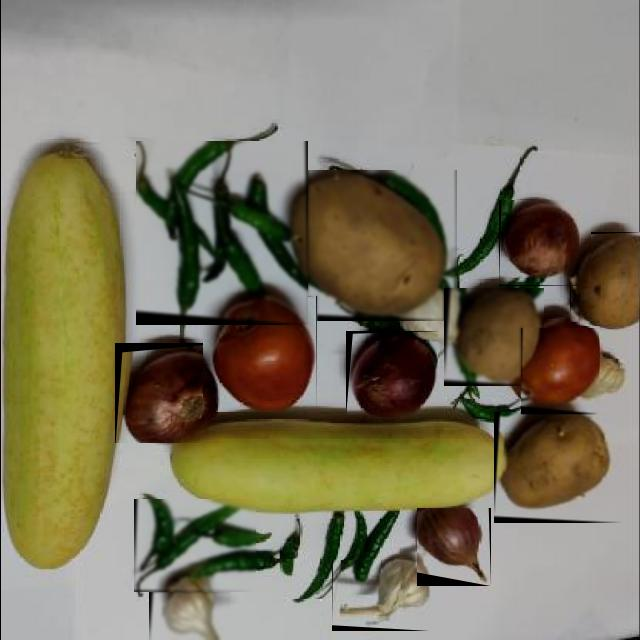2: (416, 508, 490, 586)
Pepper: (135, 141, 307, 325), (133, 499, 255, 592)
garlic: (331, 560, 429, 631), (148, 577, 229, 640)
onion: (114, 343, 220, 443), (498, 200, 590, 286), (345, 331, 437, 415)
potato: (284, 170, 456, 321), (493, 412, 622, 523), (443, 288, 543, 386), (569, 232, 640, 326)
tomato: (202, 296, 316, 412), (520, 328, 598, 414)
